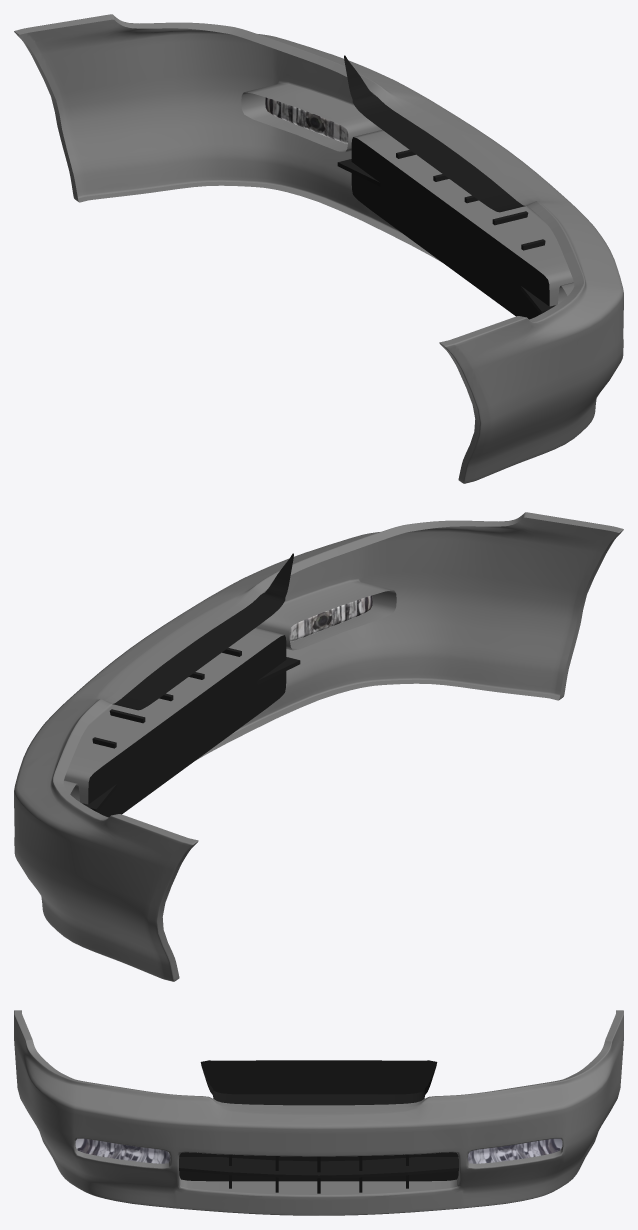
The picture shows the model from 3 angles, top to bottom: view 1: azimuth 30°, elevation 25°; view 2: azimuth 150°, elevation 25°; view 3: azimuth 270°, elevation 25°; orthographic projection. The views are drawn at different scales.
Parts seen in each view (by area): view 1: H124_021G_C_H124_021G_C_3_DaS, H124_021G_C_H124_021G_C_5_D, H124_021G_C_H124_021G_C_3_DaS_E, H124_021G_C_1_N_H124_021G_C, H124_021G_C_H124_021G_C_4_D; view 2: H124_021G_C_H124_021G_C_3_DaS, H124_021G_C_H124_021G_C_5_D, H124_021G_C_H124_021G_C_3_DaS_E, H124_021G_C_H124_021G_C_2_N, H124_021G_C_H124_021G_C_4_D; view 3: H124_021G_C_H124_021G_C_3_DaS, H124_021G_C_H124_021G_C_5_D, H124_021G_C_H124_021G_C_4_D, H124_021G_C_H124_021G_C_3_DaS_E, H124_021G_C_1_N_H124_021G_C, H124_021G_C_H124_021G_C_2_N, H124_021G_C_H124_021G_C_6_DTaSI, H124_021G_C_H124_021G_C_8_DTaSI.
Boxes of the visible parts, x1,y1,x2,y2 form: H124_021G_C_H124_021G_C_3_DaS: (14, 14, 623, 483); H124_021G_C_H124_021G_C_5_D: (344, 55, 549, 319); H124_021G_C_H124_021G_C_3_DaS_E: (20, 14, 584, 483); H124_021G_C_1_N_H124_021G_C: (265, 97, 348, 143); H124_021G_C_H124_021G_C_4_D: (337, 150, 555, 313); H124_021G_C_H124_021G_C_3_DaS: (14, 512, 623, 981); H124_021G_C_H124_021G_C_5_D: (88, 553, 293, 817); H124_021G_C_H124_021G_C_3_DaS_E: (53, 512, 617, 981); H124_021G_C_H124_021G_C_2_N: (289, 595, 372, 641); H124_021G_C_H124_021G_C_4_D: (82, 648, 300, 811); H124_021G_C_H124_021G_C_3_DaS: (14, 1010, 623, 1215); H124_021G_C_H124_021G_C_5_D: (179, 1060, 458, 1181); H124_021G_C_H124_021G_C_4_D: (179, 1154, 458, 1193); H124_021G_C_H124_021G_C_3_DaS_E: (14, 1010, 623, 1194); H124_021G_C_1_N_H124_021G_C: (467, 1138, 562, 1163); H124_021G_C_H124_021G_C_2_N: (75, 1138, 170, 1163); H124_021G_C_H124_021G_C_6_DTaSI: (75, 1139, 169, 1163); H124_021G_C_H124_021G_C_8_DTaSI: (468, 1139, 562, 1163).
Bounding box in the file's own units: 75.26 × 48.52 × 201.
